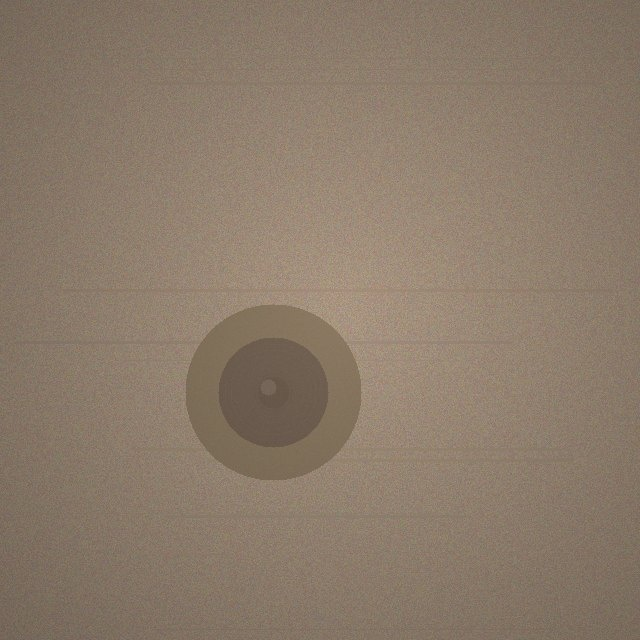good: (185, 304, 361, 480)
